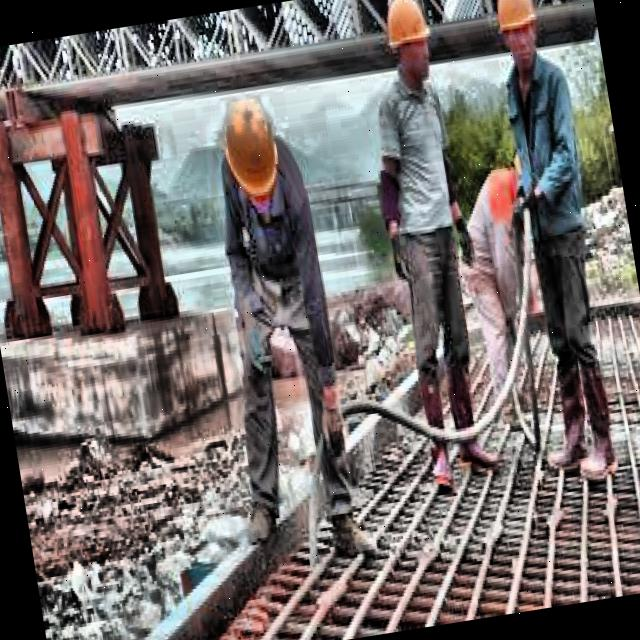helmet: (212, 87, 290, 212), (377, 0, 439, 94), (487, 0, 551, 79)
